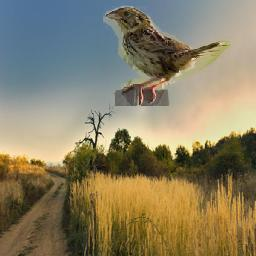Sparrow: (103, 6, 231, 107)
